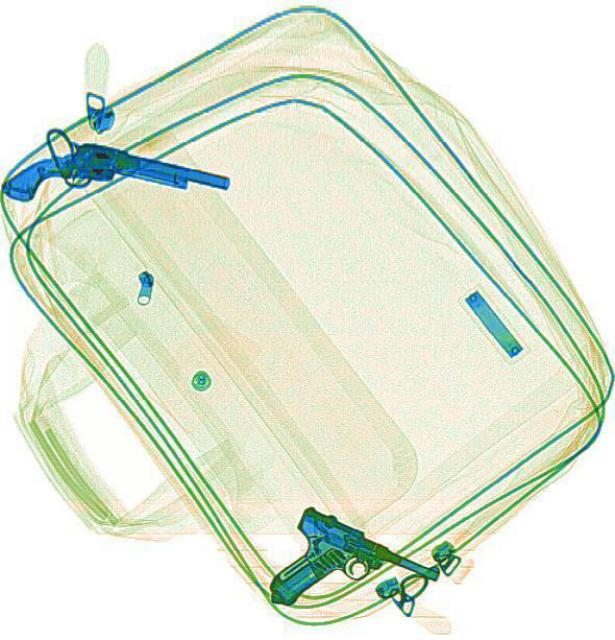Gun: (0, 123, 230, 247), (269, 510, 426, 638)
